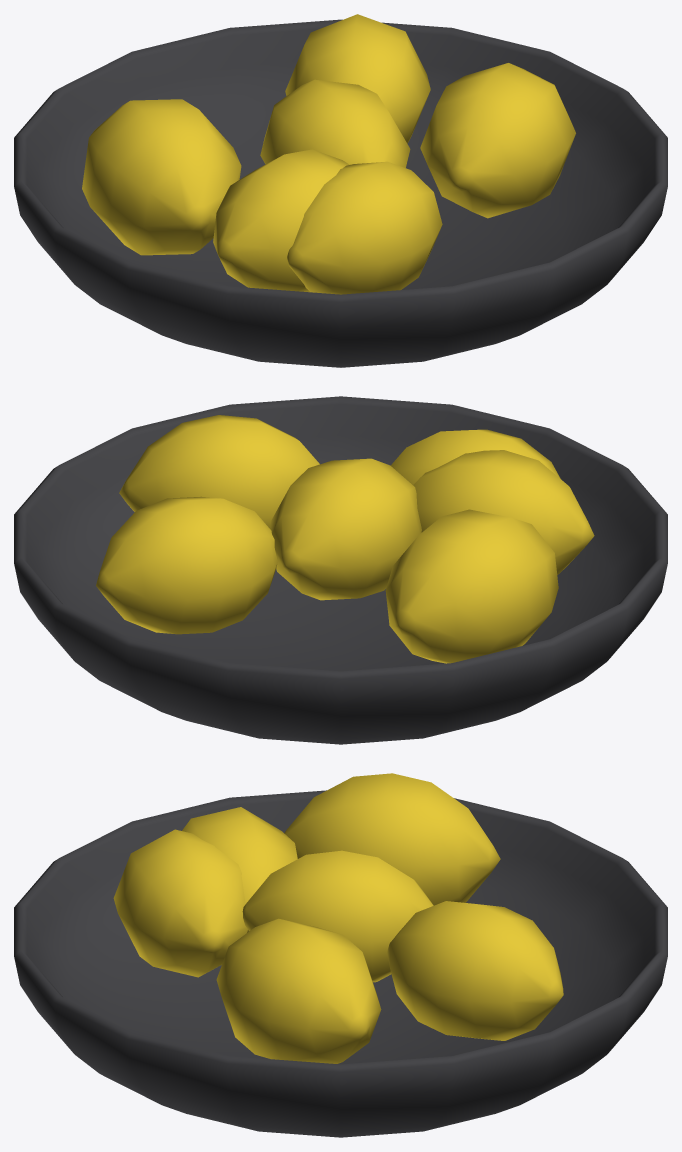
The model's file is decor_c_bowl_lemons.gltf.
3 views of the same model, one above another, from view 1: azimuth 30°, elevation 25°; view 2: azimuth 150°, elevation 25°; view 3: azimuth 270°, elevation 25° (orthographic).
Parts seen in each view (by area): view 1: DecorC_BowlLemons_Bowl01_Charcoal_NoCollide, DecorC_BowlLemons_Lemon04_Lemon_NoCollide, DecorC_BowlLemons_Lemon02_Lemon_NoCollide, DecorC_BowlLemons_Lemon05_Lemon_NoCollide, DecorC_BowlLemons_Lemon06_Lemon_NoCollide, DecorC_BowlLemons_Lemon01_Lemon_NoCollide, DecorC_BowlLemons_Lemon03_Lemon_NoCollide; view 2: DecorC_BowlLemons_Bowl01_Charcoal_NoCollide, DecorC_BowlLemons_Lemon04_Lemon_NoCollide, DecorC_BowlLemons_Lemon03_Lemon_NoCollide, DecorC_BowlLemons_Lemon01_Lemon_NoCollide, DecorC_BowlLemons_Lemon02_Lemon_NoCollide, DecorC_BowlLemons_Lemon06_Lemon_NoCollide, DecorC_BowlLemons_Lemon05_Lemon_NoCollide; view 3: DecorC_BowlLemons_Bowl01_Charcoal_NoCollide, DecorC_BowlLemons_Lemon03_Lemon_NoCollide, DecorC_BowlLemons_Lemon02_Lemon_NoCollide, DecorC_BowlLemons_Lemon04_Lemon_NoCollide, DecorC_BowlLemons_Lemon05_Lemon_NoCollide, DecorC_BowlLemons_Lemon01_Lemon_NoCollide, DecorC_BowlLemons_Lemon06_Lemon_NoCollide.
Boxes of the visible parts, x1,y1,x2,y2 form: DecorC_BowlLemons_Bowl01_Charcoal_NoCollide: (14,19,667,367); DecorC_BowlLemons_Lemon04_Lemon_NoCollide: (82,99,241,255); DecorC_BowlLemons_Lemon02_Lemon_NoCollide: (420,63,575,218); DecorC_BowlLemons_Lemon05_Lemon_NoCollide: (287,161,442,294); DecorC_BowlLemons_Lemon06_Lemon_NoCollide: (213,149,349,292); DecorC_BowlLemons_Lemon01_Lemon_NoCollide: (260,79,410,167); DecorC_BowlLemons_Lemon03_Lemon_NoCollide: (285,14,430,143); DecorC_BowlLemons_Bowl01_Charcoal_NoCollide: (14,396,667,744); DecorC_BowlLemons_Lemon04_Lemon_NoCollide: (385,509,558,663); DecorC_BowlLemons_Lemon03_Lemon_NoCollide: (96,496,277,634); DecorC_BowlLemons_Lemon01_Lemon_NoCollide: (270,458,421,600); DecorC_BowlLemons_Lemon02_Lemon_NoCollide: (119,415,319,528); DecorC_BowlLemons_Lemon06_Lemon_NoCollide: (413,450,594,574); DecorC_BowlLemons_Lemon05_Lemon_NoCollide: (390,429,560,484); DecorC_BowlLemons_Bowl01_Charcoal_NoCollide: (14,790,667,1137); DecorC_BowlLemons_Lemon03_Lemon_NoCollide: (387,901,563,1040); DecorC_BowlLemons_Lemon02_Lemon_NoCollide: (216,918,381,1063); DecorC_BowlLemons_Lemon04_Lemon_NoCollide: (284,773,500,905); DecorC_BowlLemons_Lemon05_Lemon_NoCollide: (113,829,247,977); DecorC_BowlLemons_Lemon01_Lemon_NoCollide: (242,850,433,982); DecorC_BowlLemons_Lemon06_Lemon_NoCollide: (182,807,297,932).
Bounding box in the file's own units: 0.3 × 0.1059 × 0.2954.
